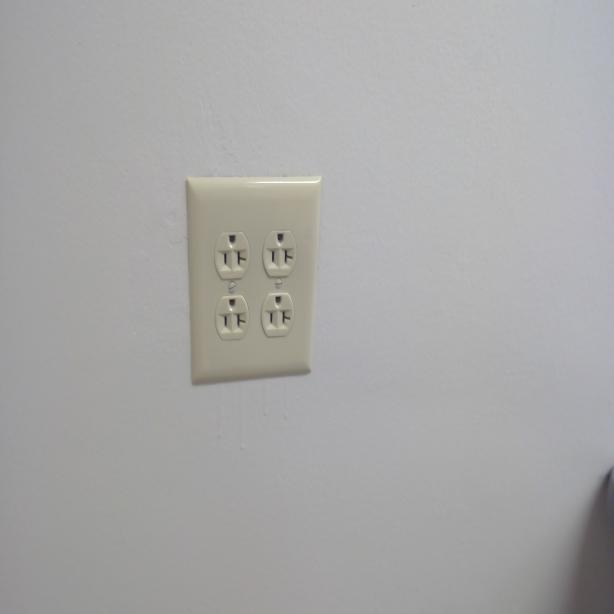typeb: (263, 228, 297, 274), (261, 292, 294, 337), (220, 232, 247, 278), (218, 298, 248, 338)
